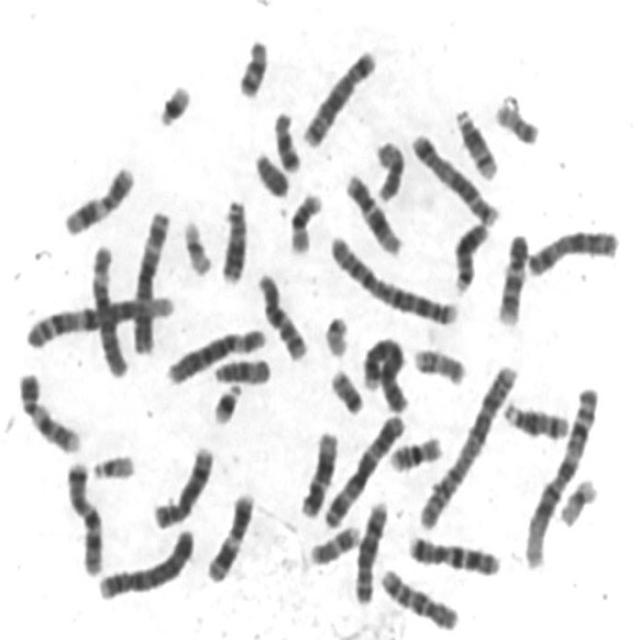A1: (518, 378, 603, 571), (19, 284, 178, 351)
A2: (412, 354, 522, 532), (323, 225, 462, 328)
A3: (318, 405, 407, 530), (126, 202, 174, 356)
B4: (92, 520, 197, 602), (356, 328, 411, 414)
B5: (406, 124, 503, 228), (296, 39, 380, 150)
C10: (374, 559, 462, 633), (251, 263, 311, 363)
C11: (57, 156, 137, 238), (200, 483, 258, 585)
C12: (340, 164, 404, 256), (294, 422, 340, 520)
C6: (160, 318, 270, 386), (84, 236, 131, 379)
C7: (60, 452, 106, 578), (402, 526, 504, 577)
C8: (147, 437, 216, 530), (348, 492, 392, 607)
C9: (12, 362, 84, 456), (490, 225, 531, 328)
D13: (448, 213, 492, 295), (214, 190, 250, 286)
D14: (448, 98, 501, 181), (498, 391, 572, 442)
D15: (369, 132, 407, 202), (208, 349, 273, 386)
E16: (282, 183, 326, 257), (383, 426, 446, 474)
E17: (407, 338, 469, 387), (304, 516, 363, 567)
E18: (231, 29, 271, 100), (268, 102, 304, 174)
F19: (553, 468, 601, 529), (177, 211, 215, 277)
F20: (489, 92, 542, 146), (324, 359, 366, 416)
G21: (150, 74, 194, 130), (206, 373, 245, 426)
G22: (86, 444, 138, 482), (318, 307, 352, 359)
X: (520, 220, 622, 279)
Y: (248, 142, 292, 199)
